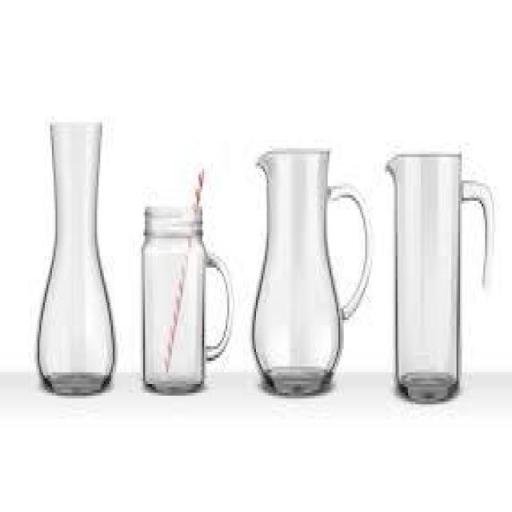glass: (381, 143, 495, 415), (250, 147, 370, 393), (36, 118, 116, 396), (142, 180, 232, 390)
